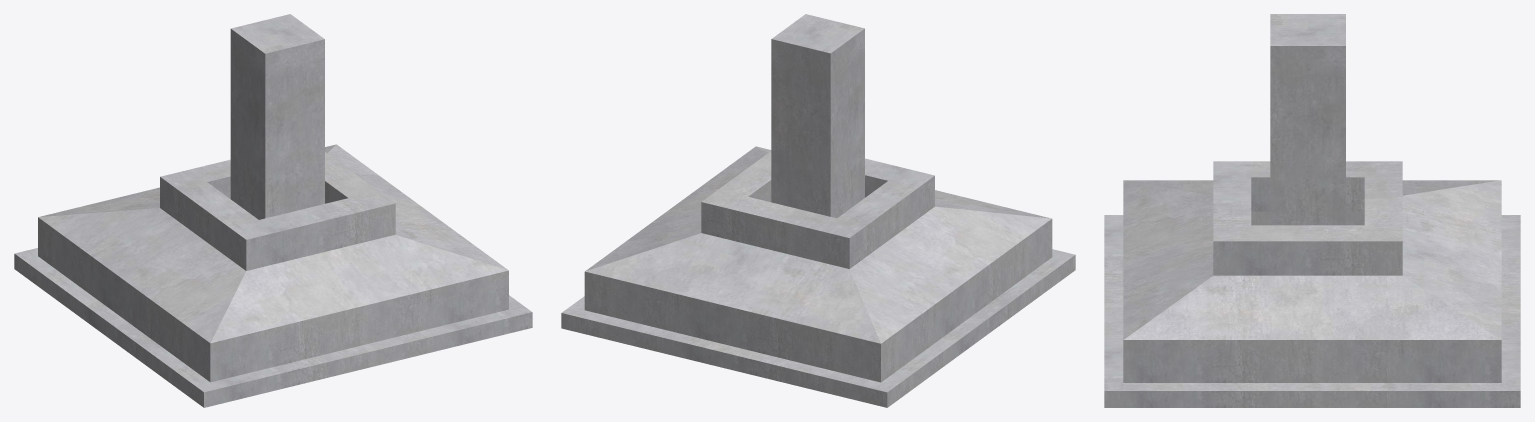
File: cup-base.glb
3 renders of one model, left to right at view 1: azimuth 30°, elevation 25°; view 2: azimuth 150°, elevation 25°; view 3: azimuth 270°, elevation 25°, orthographic. The views are drawn at different scales.
Visible parts, largest first — view 1: 杯形基础; view 2: 杯形基础; view 3: 杯形基础.
Part boxes in pixels (x1,y1,x2,y2): 杯形基础: (14,14,532,407); 杯形基础: (561,14,1075,407); 杯形基础: (1104,14,1520,407).
Bounding box in the file's own units: 2.2 × 1.7 × 2.2.
Materials: 1 (1 with a texture image).
